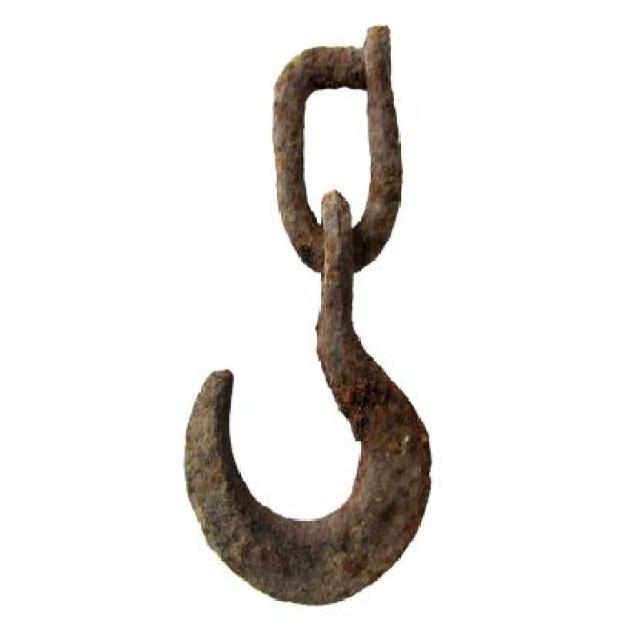corrosion: (183, 22, 432, 604)
